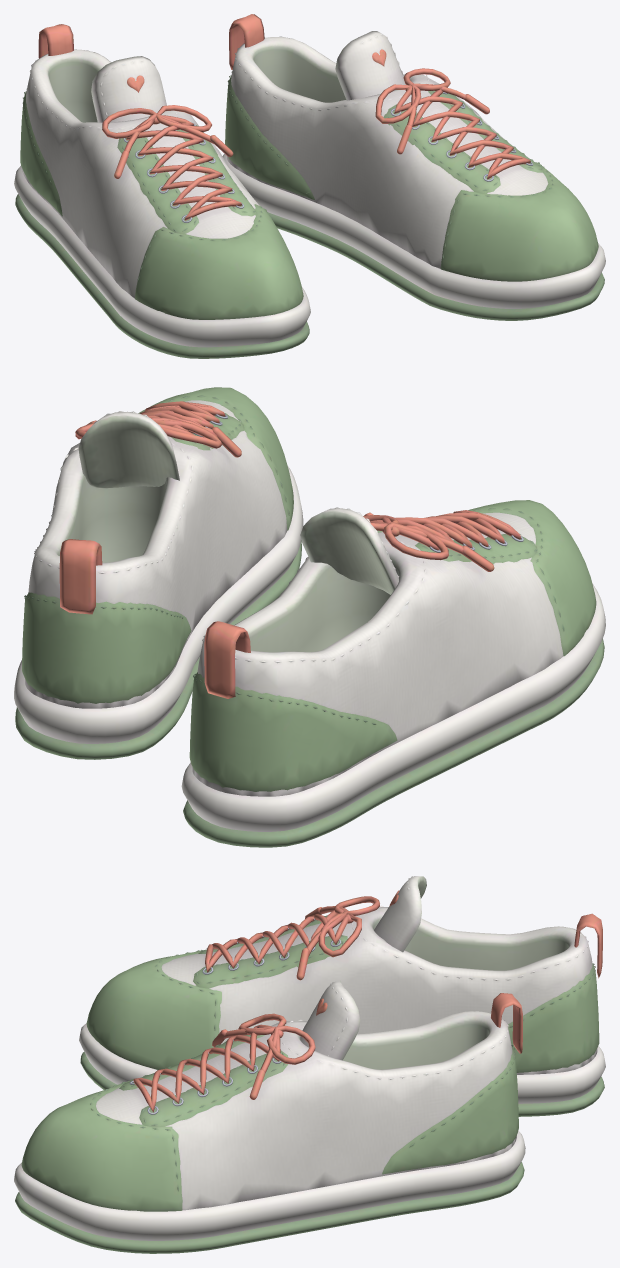
Rendered from sneaker.glb.
The picture shows the model from 3 angles, top to bottom: view 1: azimuth 30°, elevation 25°; view 2: azimuth 150°, elevation 25°; view 3: azimuth 270°, elevation 25°; orthographic projection. The views are drawn at different scales.
Parts seen in each view (by area): view 1: sneaker_body; view 2: sneaker_body; view 3: sneaker_body.
Boxes of the visible parts, x1=… form: sneaker_body: x1=14, y1=14, x2=605, y2=358; sneaker_body: x1=14, y1=387, x2=605, y2=847; sneaker_body: x1=14, y1=876, x2=605, y2=1253.
Size of the model in its own units: 0.2852 by 0.1275 by 0.331.
1 material, 1 textured.
